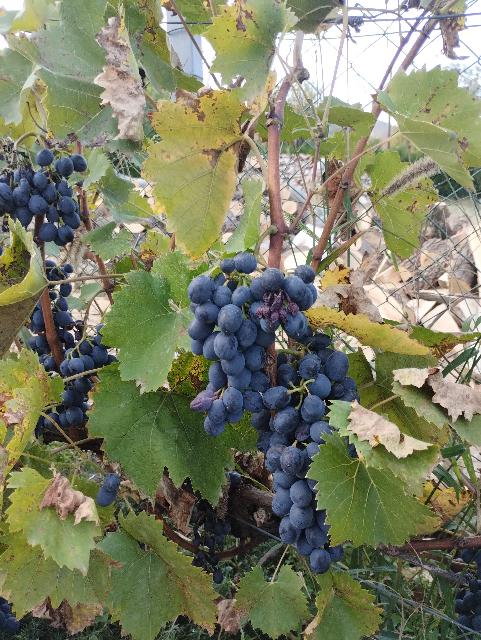grapes: (252, 334, 360, 574), (188, 252, 315, 436), (0, 149, 88, 246), (50, 321, 118, 429), (50, 282, 75, 348)
